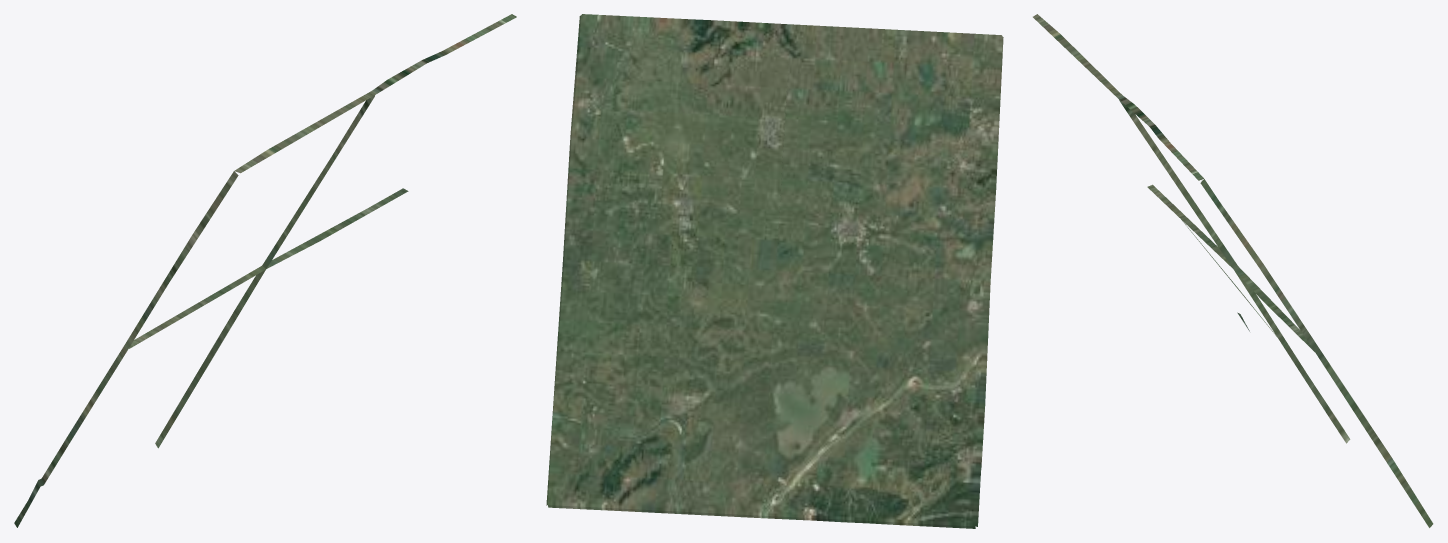
3 views of the same model, side by side, from view 1: azimuth 30°, elevation 25°; view 2: azimuth 150°, elevation 25°; view 3: azimuth 270°, elevation 25° (orthographic). The views are drawn at different scales.
Bounding box in the file's own units: 157266 × 137521 × 127788.
1 material, 1 textured.
